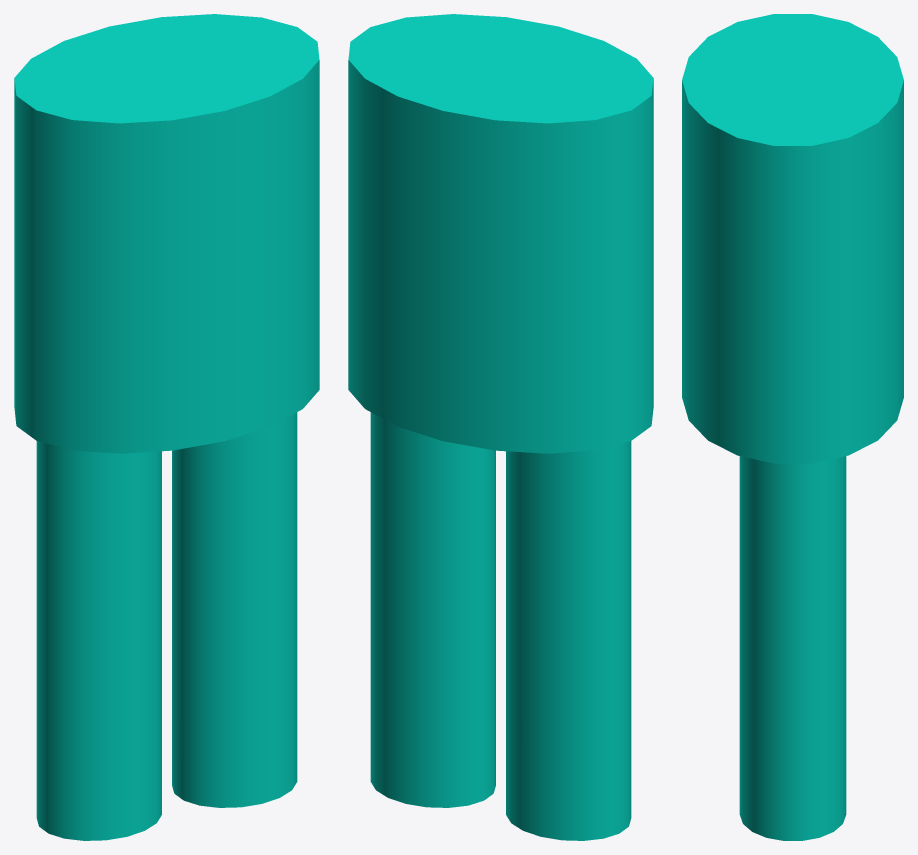
The model's file is VM-ACC-1102.glb.
3 views of the same model, side by side, from view 1: azimuth 30°, elevation 25°; view 2: azimuth 150°, elevation 25°; view 3: azimuth 270°, elevation 25° (orthographic). The views are drawn at different scales.
Visible parts, largest first — view 1: Crossbody Mini Quilted; view 2: Crossbody Mini Quilted; view 3: Crossbody Mini Quilted.
Boxes of the visible parts, <box> form: Crossbody Mini Quilted: <box>14,14,319,840</box>; Crossbody Mini Quilted: <box>348,14,653,840</box>; Crossbody Mini Quilted: <box>682,14,903,840</box>.
Bounding box in the file's own units: 0.363 × 0.9021 × 0.258.
